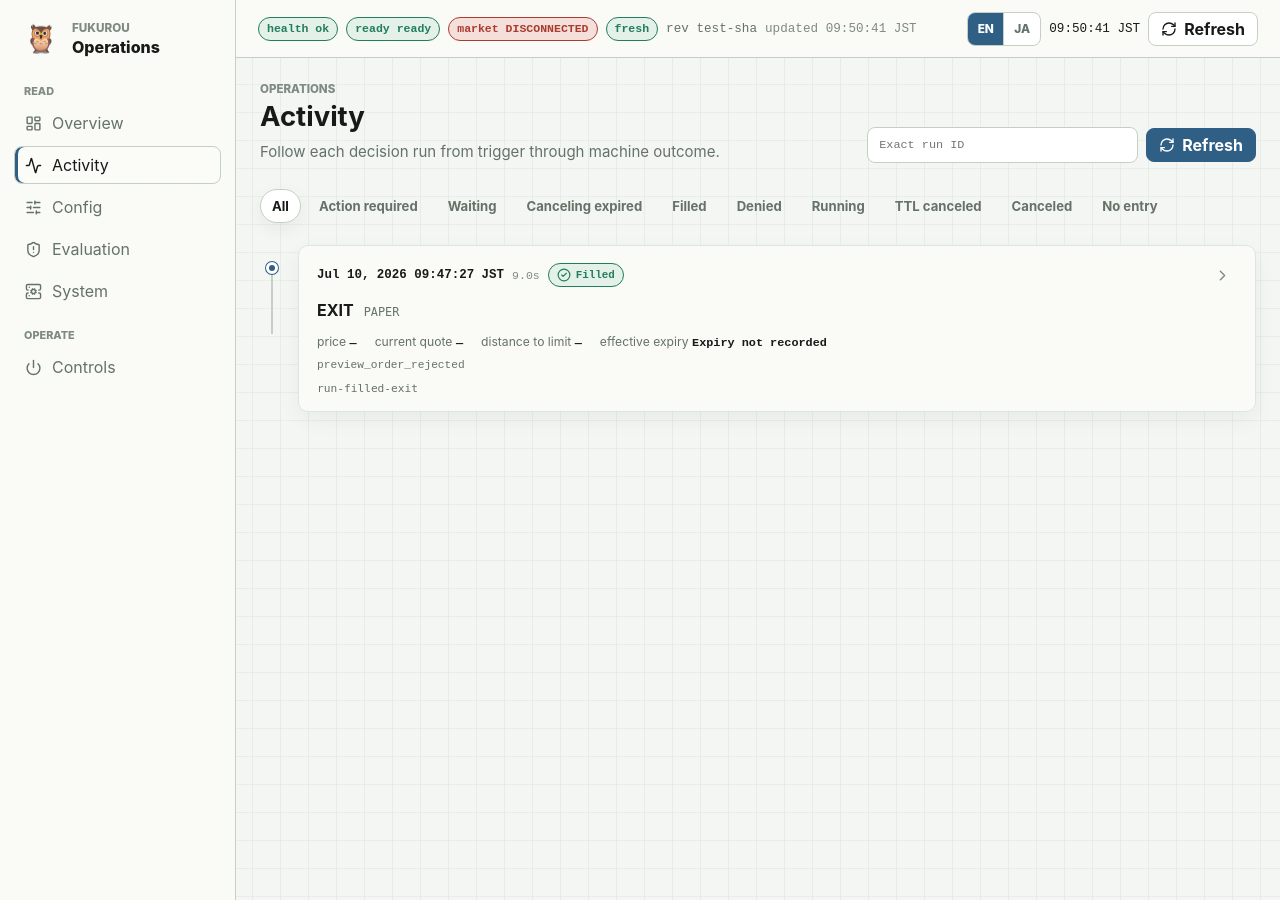
App › shows saved direct execution evidence for a filled exit without an entry lifecycle
Click the button named "run-filled-exit".
click(1222, 275)  # box x1=1208 y1=266 x2=1237 y2=285
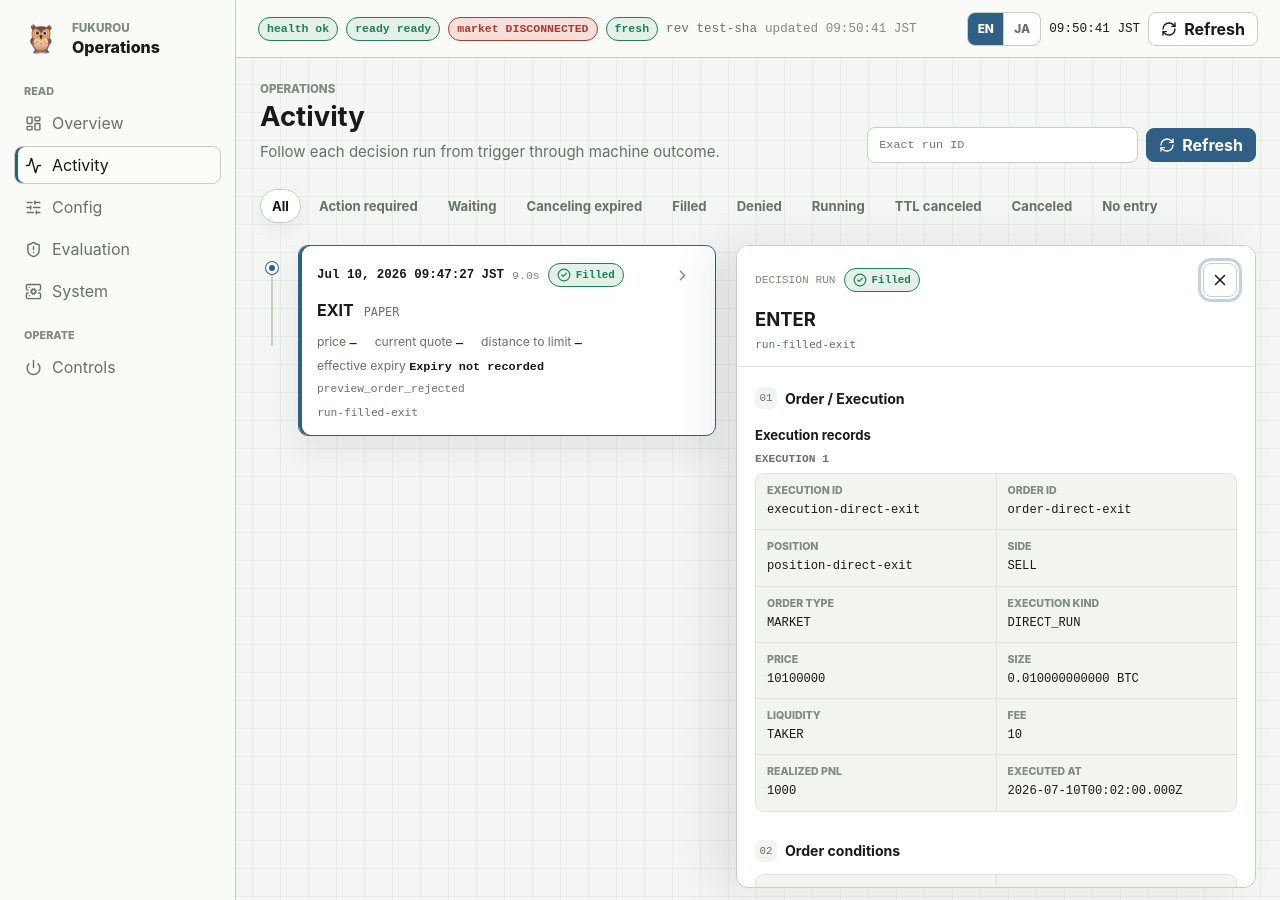
Check: the text "execution-direct-exit" is shown, box x1=767 y1=503 x2=920 y2=517
Check: the text "SELL" is shown, box x1=1008 y1=560 x2=1037 y2=574
Check: the text "10100000" is shown, box x1=767 y1=672 x2=825 y2=686
